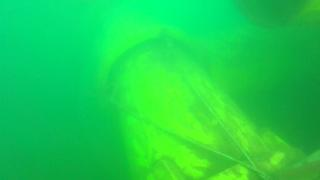pipe: (96, 12, 319, 180), (196, 30, 320, 94), (228, 1, 320, 31)
